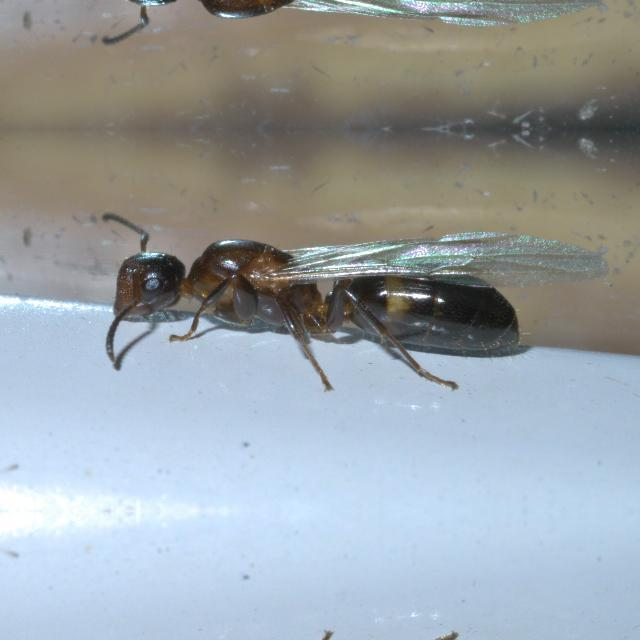Colobopsis: (52, 190, 590, 398), (52, 0, 590, 64)
